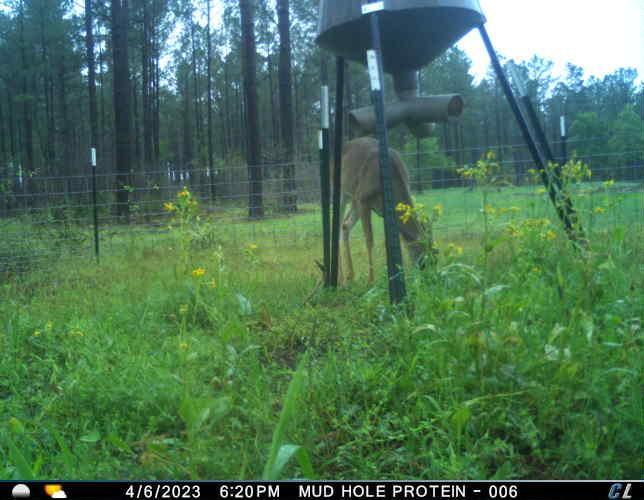Deer: (339, 135, 431, 286)
